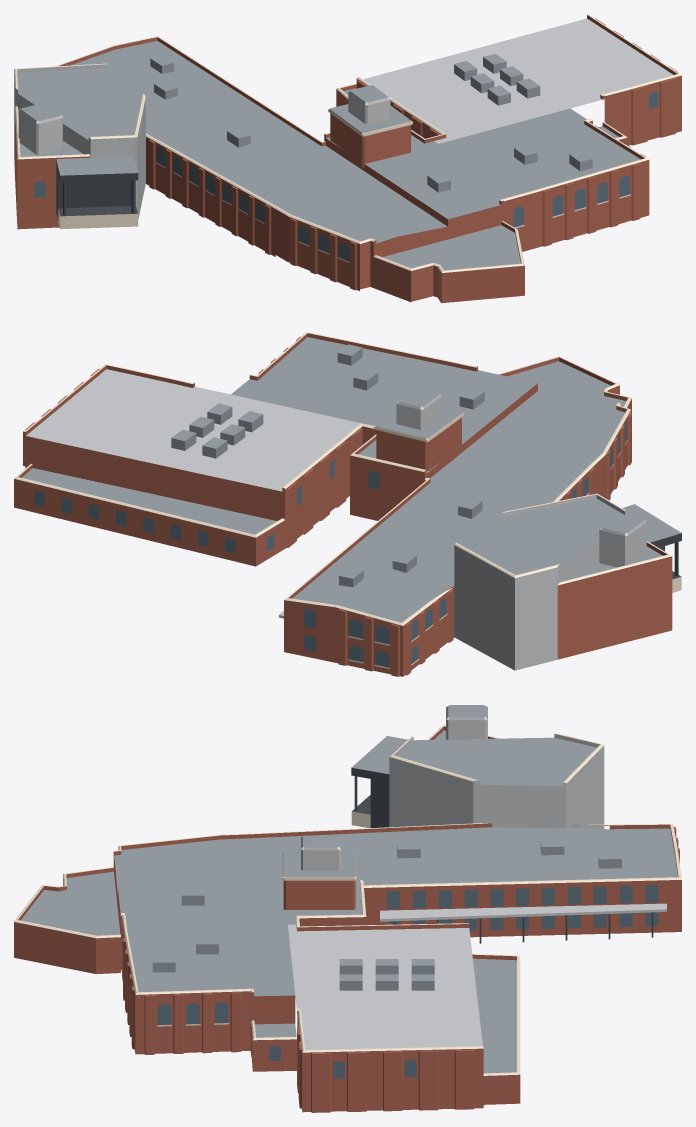
File: detail.glb
3 renders of one model, top to bottom at view 1: azimuth 30°, elevation 25°; view 2: azimuth 150°, elevation 25°; view 3: azimuth 270°, elevation 25°, orthographic. The views are drawn at different scales.
Parts seen in each view (by area): view 1: avidxchange-music-factory; view 2: avidxchange-music-factory; view 3: avidxchange-music-factory.
Part boxes in pixels (bbox=[...]): avidxchange-music-factory: bbox=[14, 14, 681, 303]; avidxchange-music-factory: bbox=[14, 332, 681, 676]; avidxchange-music-factory: bbox=[14, 705, 681, 1112].
Bounding box in the file's own units: 103 × 17.22 × 92.9.
